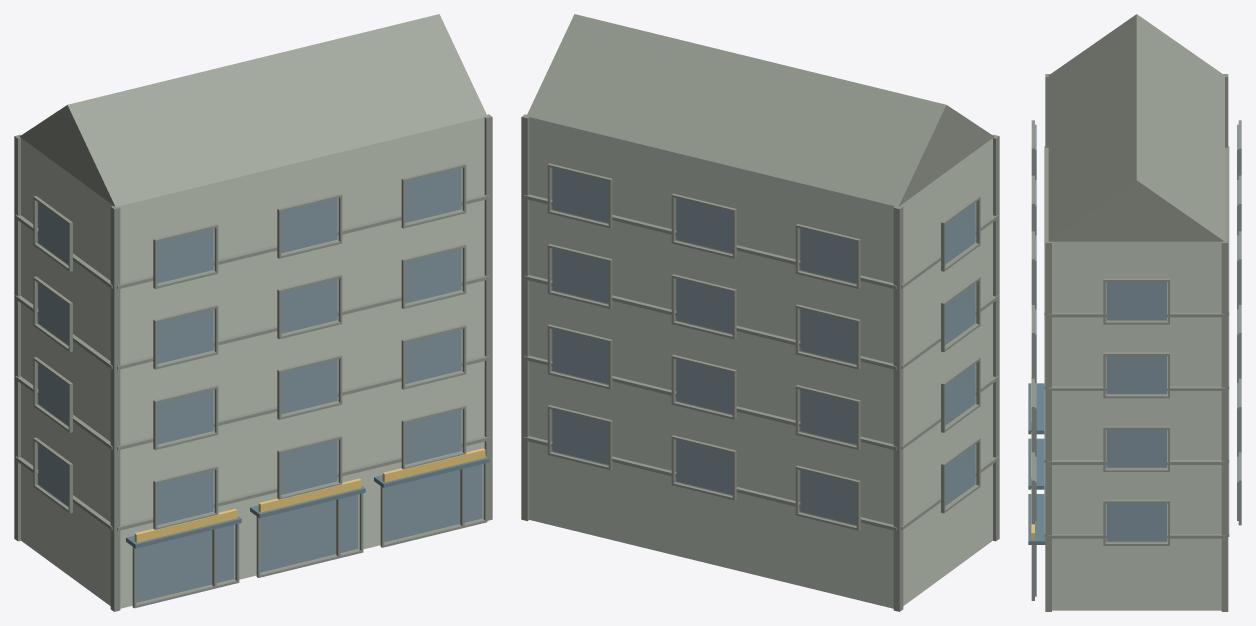
File: lot_2x1.glb
The picture shows the model from 3 angles, left to right: view 1: azimuth 30°, elevation 25°; view 2: azimuth 150°, elevation 25°; view 3: azimuth 270°, elevation 25°; orthographic projection. The views are drawn at different scales.
Visible parts, largest first — view 1: lot_2x1; view 2: lot_2x1; view 3: lot_2x1.
Part boxes in pixels (x1,y1,x2,y2): lot_2x1: [14, 14, 492, 611]; lot_2x1: [521, 14, 999, 611]; lot_2x1: [1028, 14, 1241, 611].
Size of the model in its own units: 15.74 by 17.5 by 7.87.
